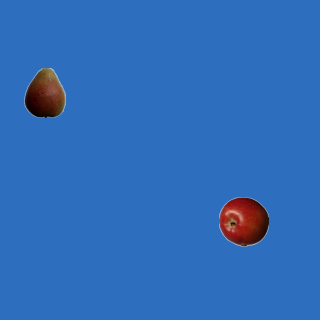Apple Braeburn: (218, 196, 268, 246)
Pear Forelle: (19, 67, 69, 117)
